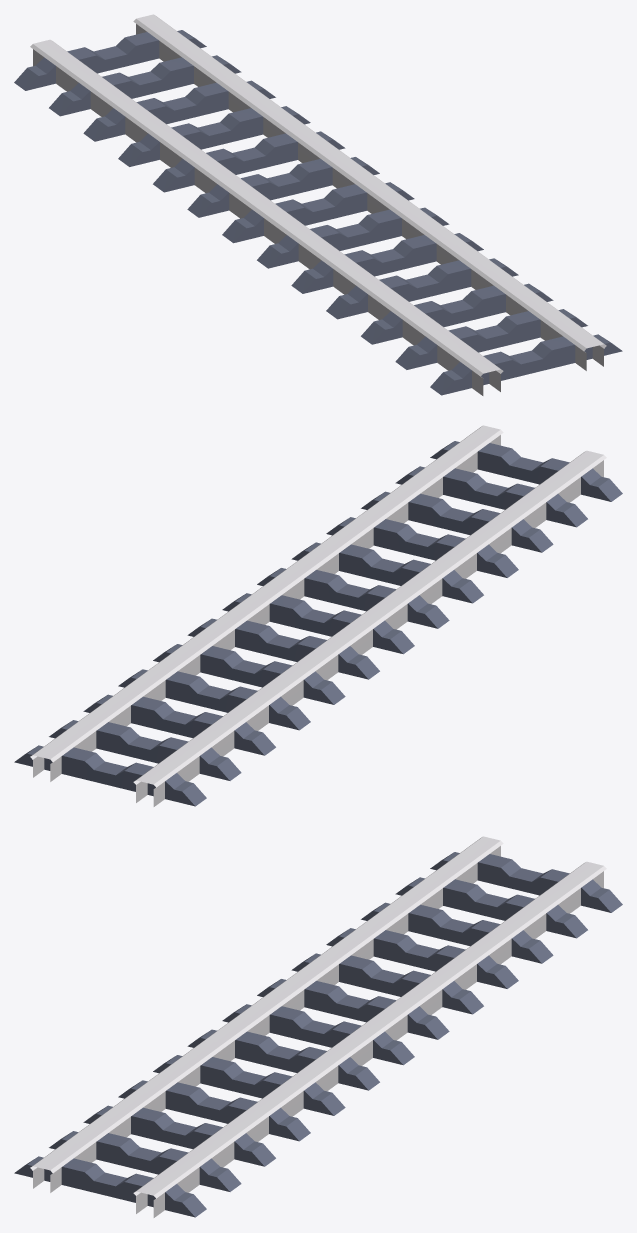
Rendered from Tracks.FBX.
The picture shows the model from 3 angles, top to bottom: view 1: azimuth 30°, elevation 25°; view 2: azimuth 150°, elevation 25°; view 3: azimuth 330°, elevation 25°; orthographic projection.
Visible parts, largest first — view 1: tracks; view 2: tracks; view 3: tracks.
Part boxes in pixels (x1,y1,x2,y2): tracks: (14,14,622,395); tracks: (14,425,622,806); tracks: (14,836,622,1217).
Bounding box in the file's own units: 2.52 × 0.3042 × 10.83.
1 material, 1 textured.
